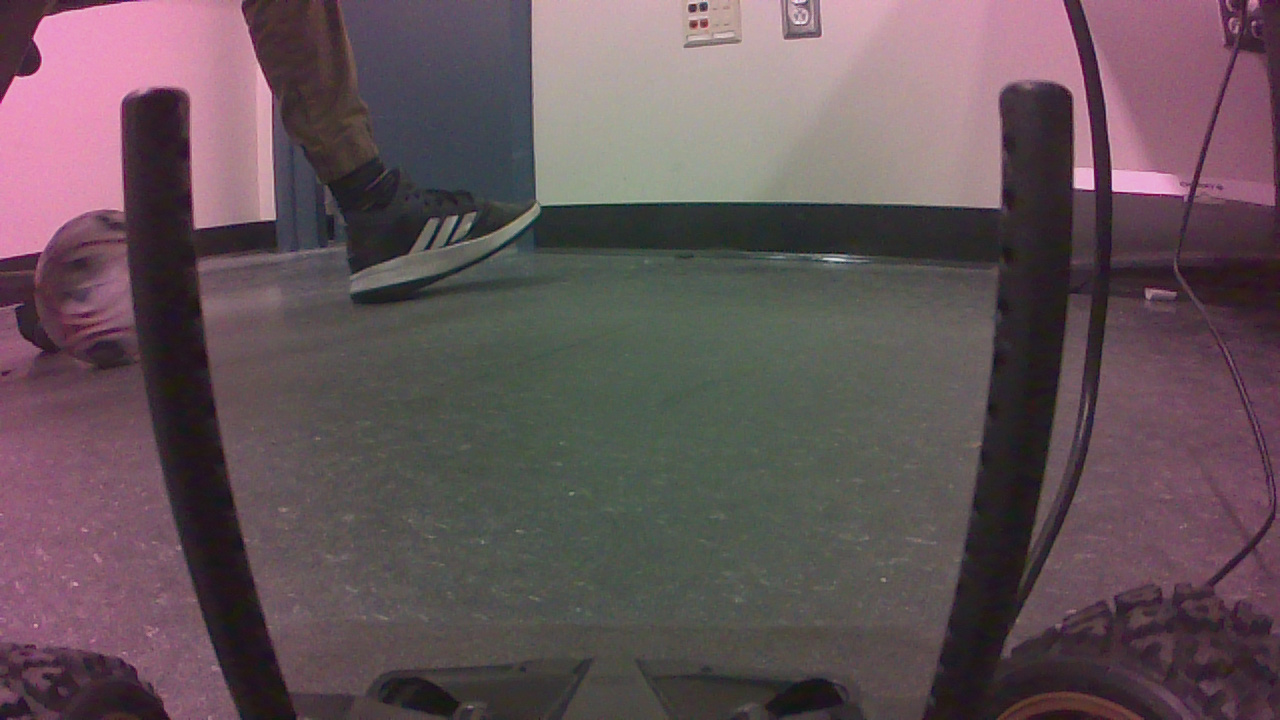ball: (40, 220, 168, 372)
